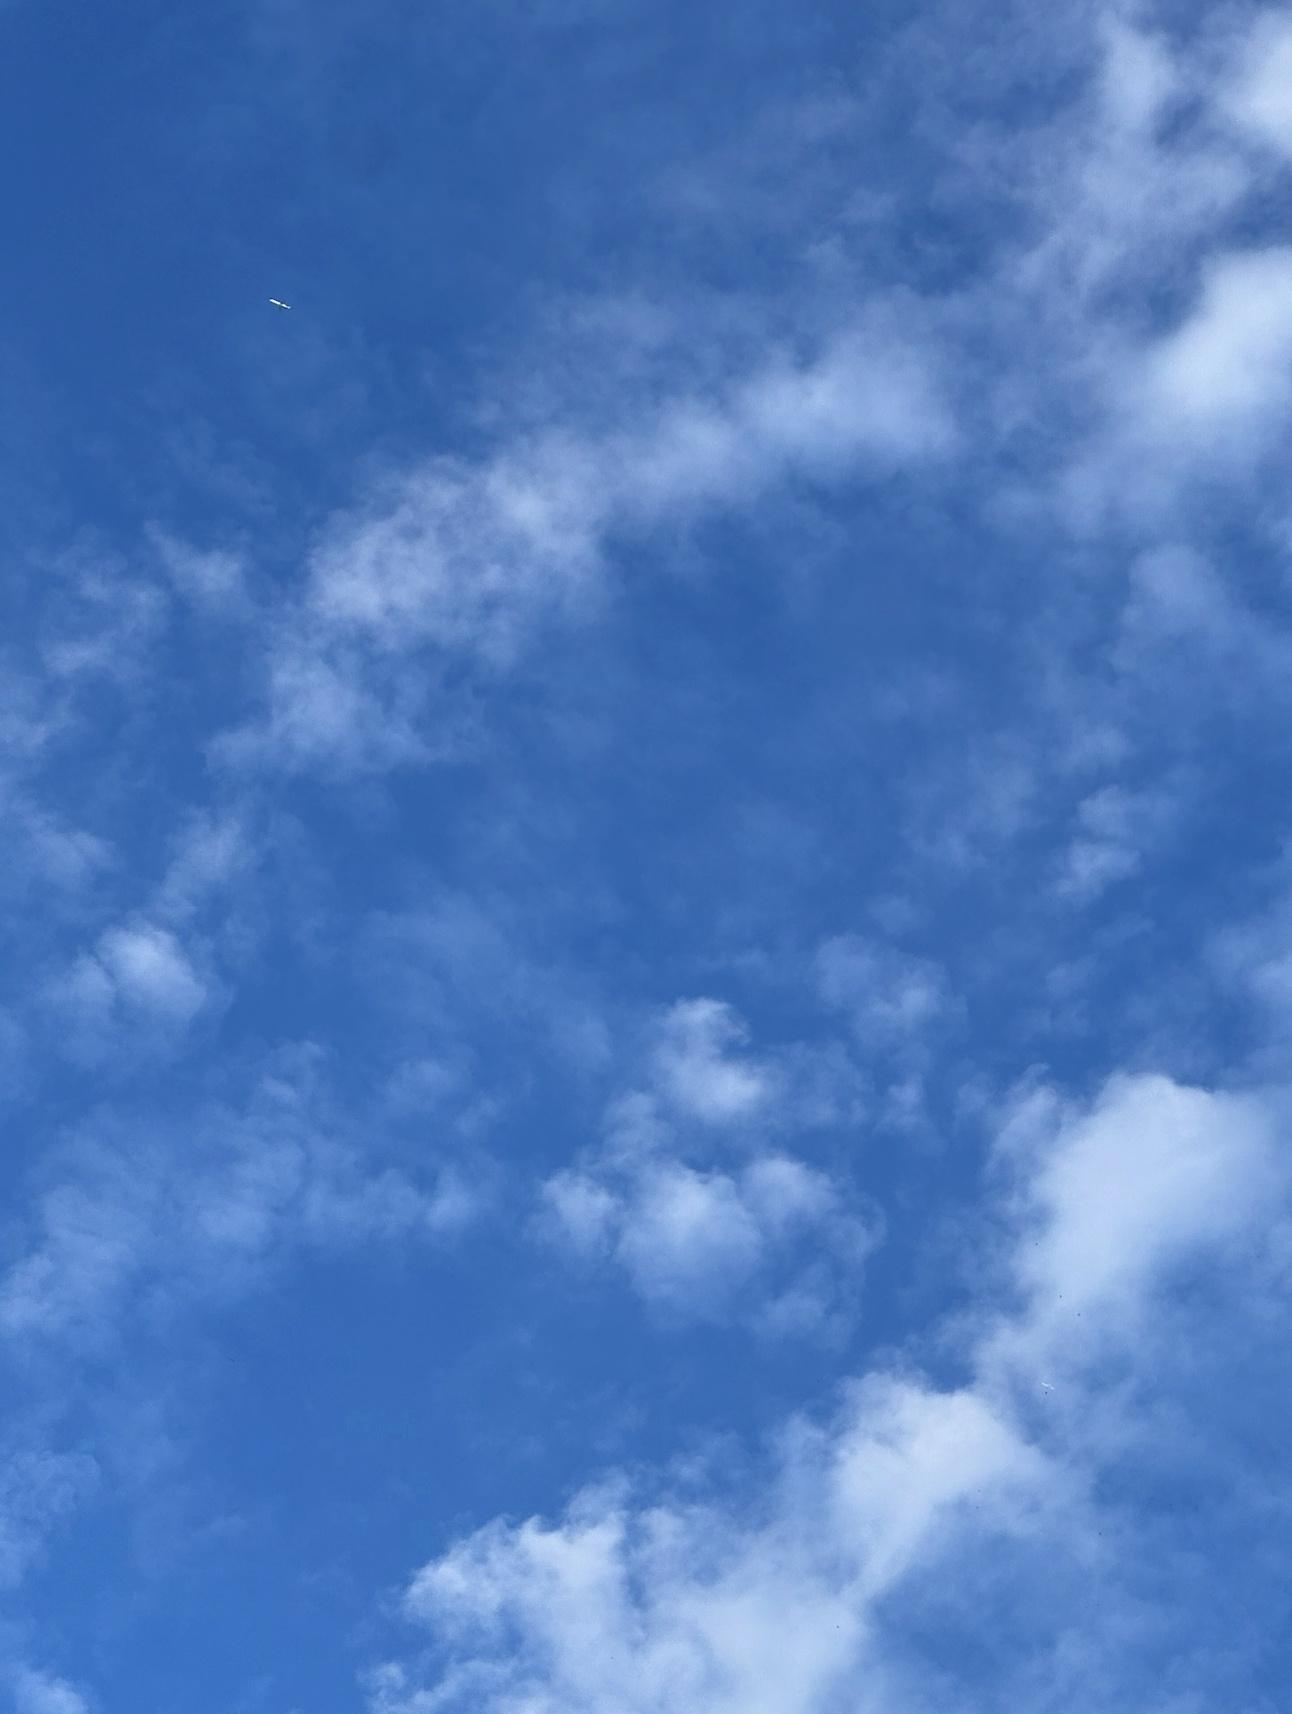Plane: (265, 284, 301, 320)
